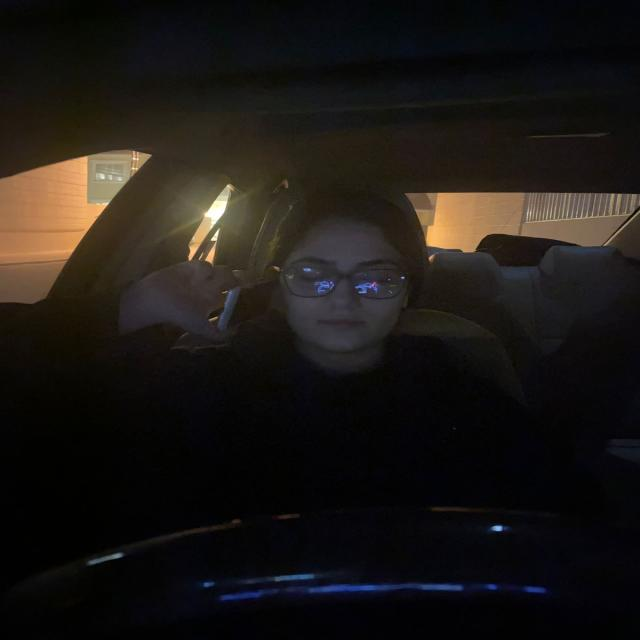phone: (216, 277, 278, 331)
